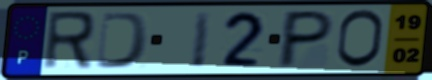2: (219, 9, 268, 71)
D: (93, 11, 152, 71)
I: (188, 10, 215, 70)
O: (334, 8, 387, 70)
P: (273, 9, 338, 70)
R: (40, 9, 98, 72)
